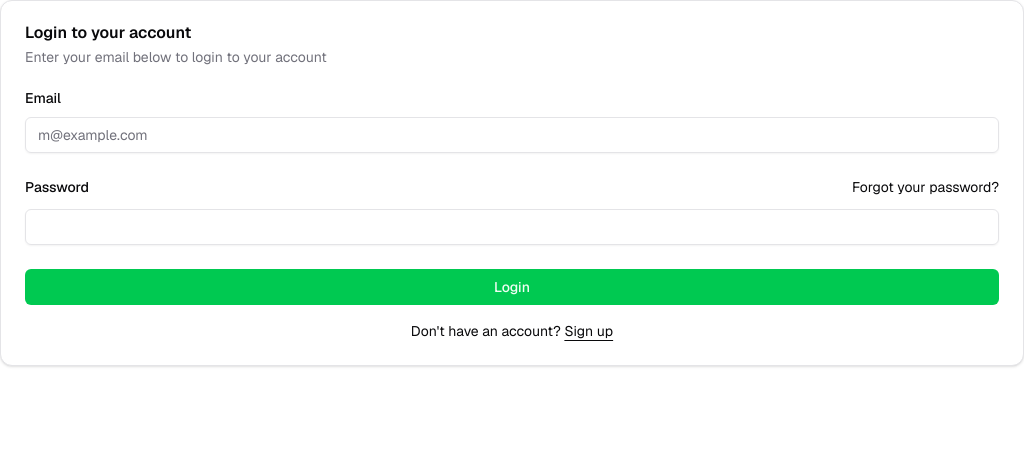
Test: LoginForm › shows error message when login fails
Note: Fill form with valid data
Type "test@example.com" into the field labelled "Email".
click(512, 135); type("test@example.com")  # box [25,117,999,153]
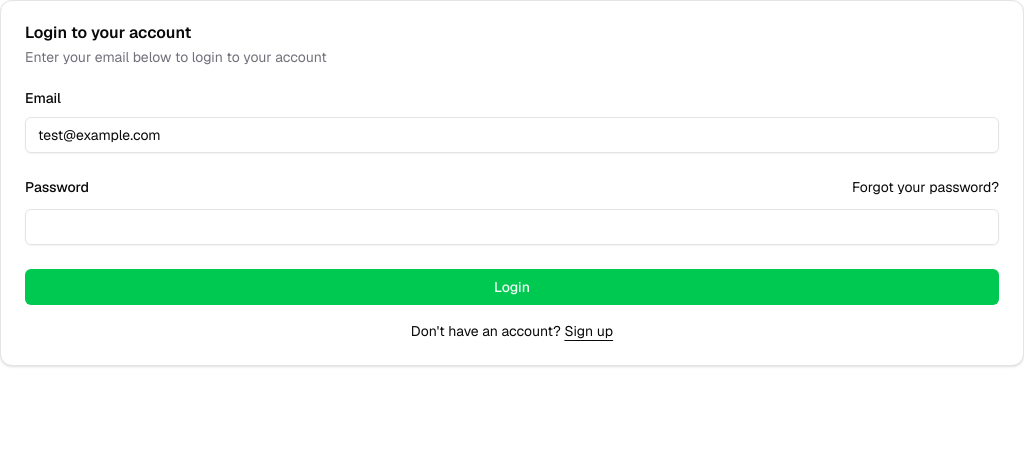
Type "password123" into the password field labelled "Password".
click(512, 227); type("password123")  # box [25,209,999,245]
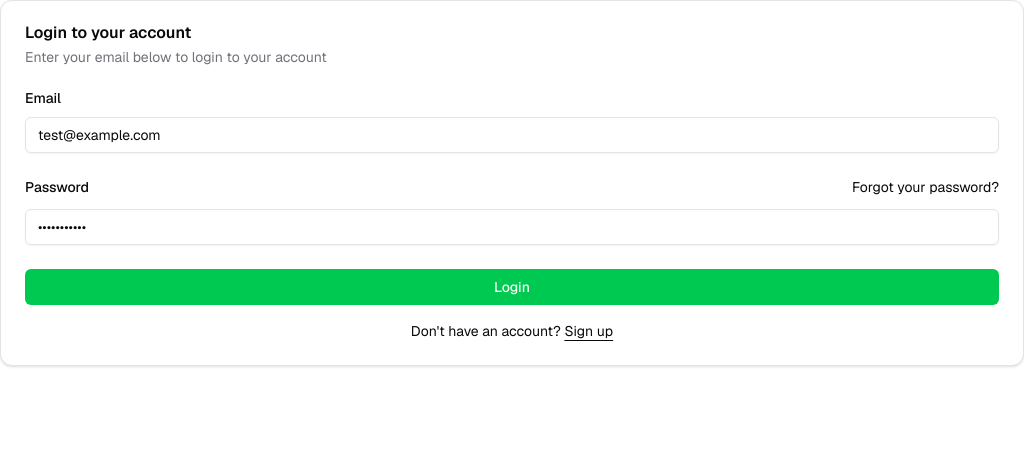
Note: Submit form
Click the button "Login".
click(512, 287)  # box [25,269,999,305]
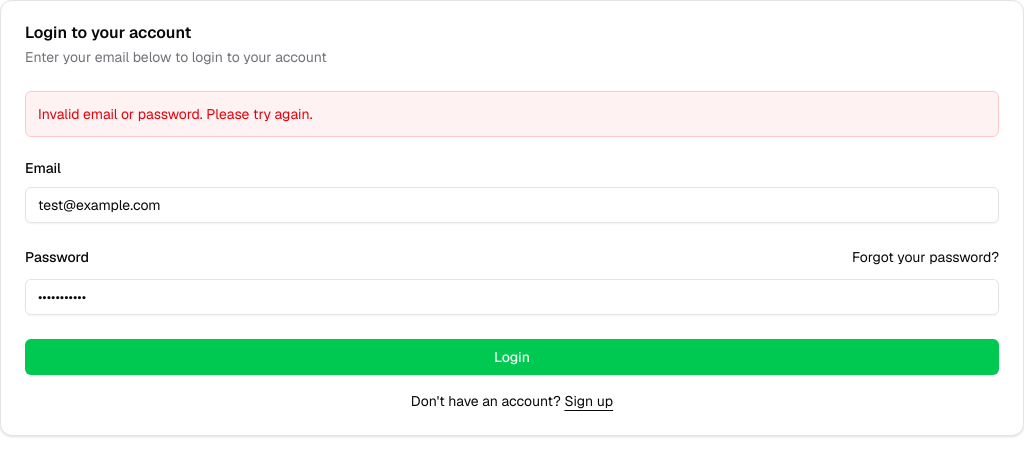
Now the text "Invalid email or password. Please try again." is shown, box [25,91,999,137]
